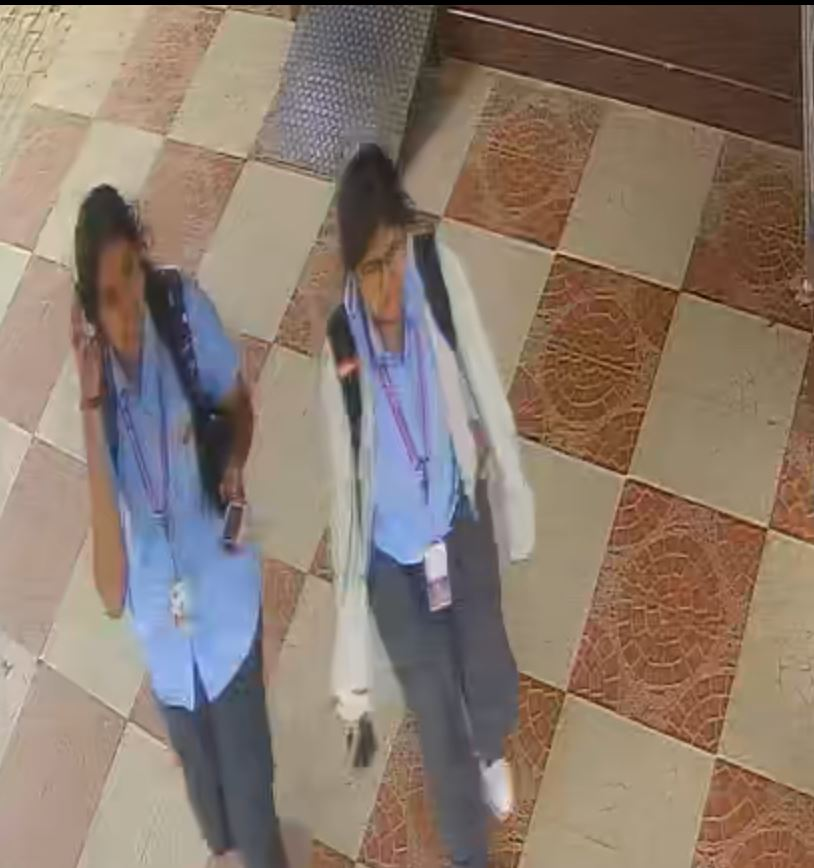intruder: (316, 150, 564, 868), (52, 160, 294, 868)
